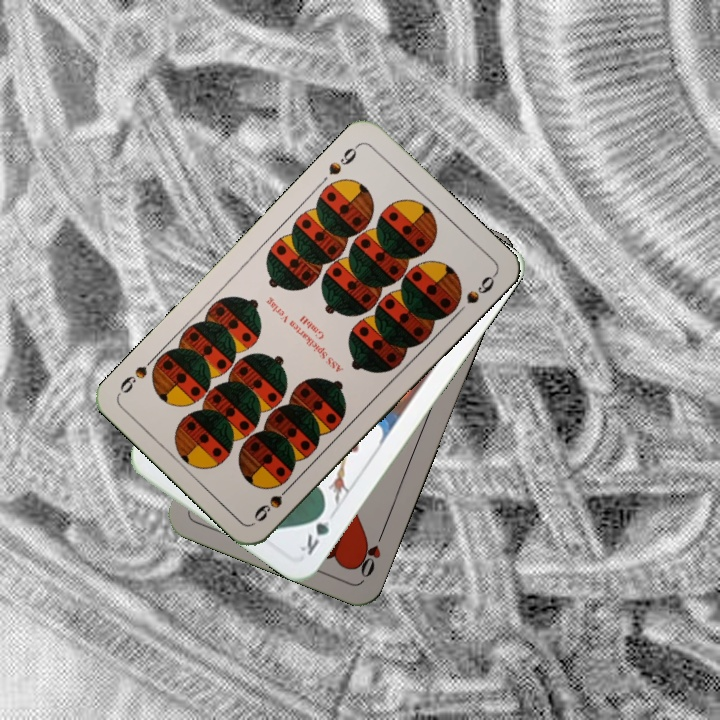GK: (295, 503, 338, 559)
HO: (352, 525, 388, 581)
S9: (249, 478, 296, 525), (324, 140, 363, 178)
